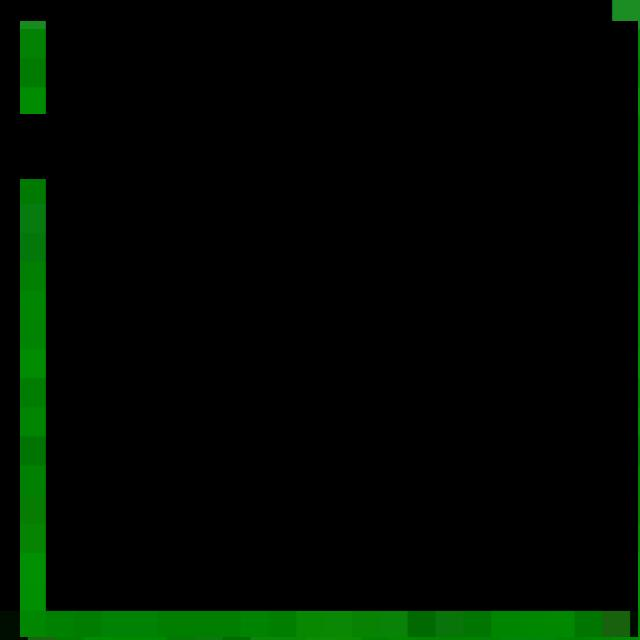nofire: (20, 21, 638, 637)
